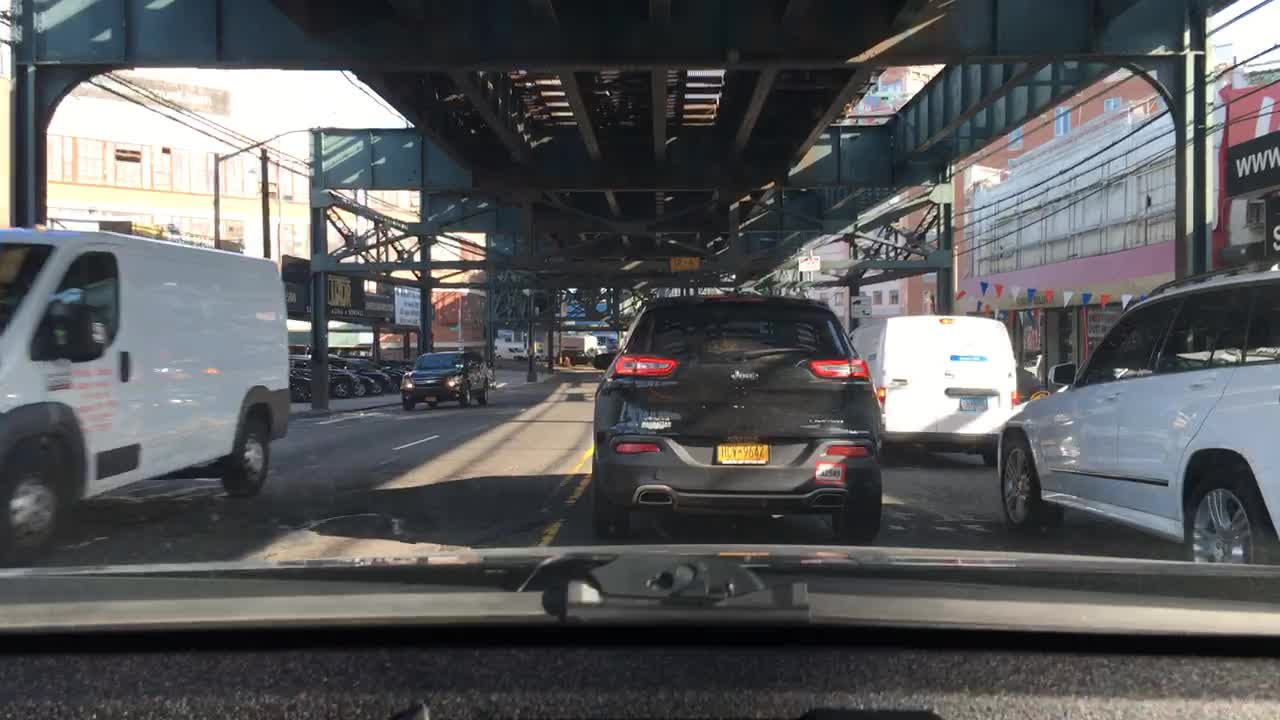car: (997, 254, 1278, 564), (585, 293, 884, 541), (849, 311, 1021, 467), (397, 350, 491, 409), (299, 358, 376, 405), (286, 366, 316, 405), (356, 365, 395, 395), (559, 347, 585, 365), (386, 359, 413, 375)
traffic sign: (795, 252, 820, 276), (667, 256, 701, 272)
truck: (1, 224, 292, 561), (496, 342, 529, 359)
